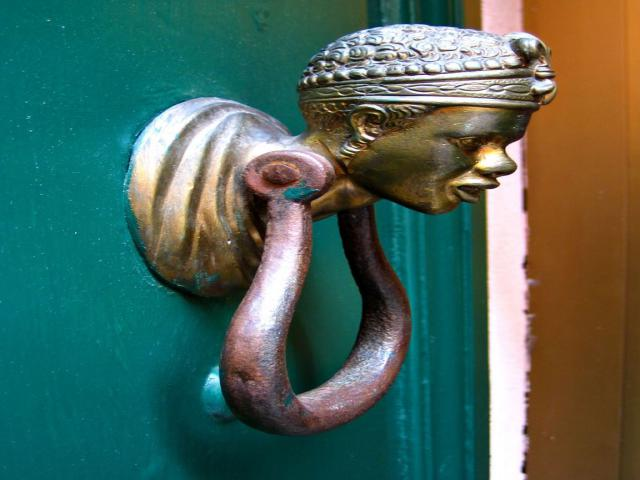Door-handle: (102, 20, 574, 440)
